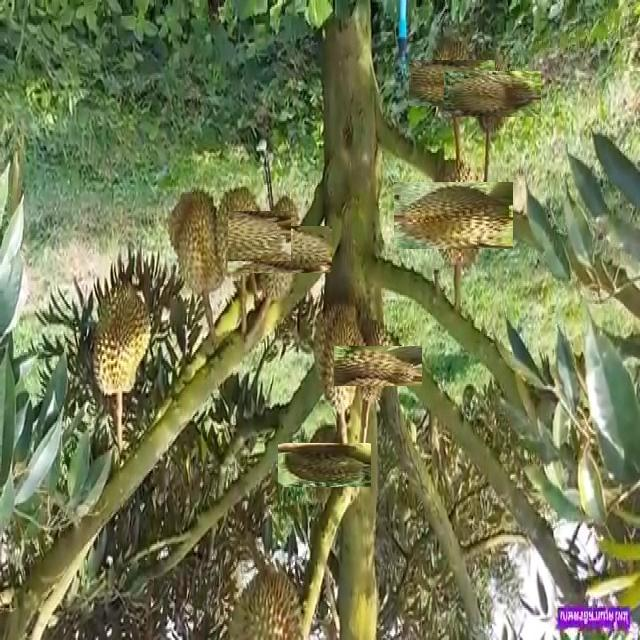durian: (407, 169, 501, 262), (90, 278, 154, 397), (165, 186, 228, 299), (222, 563, 307, 640), (312, 302, 366, 416), (240, 211, 317, 288), (202, 198, 278, 274), (456, 58, 528, 130), (290, 430, 359, 500), (419, 49, 485, 116), (346, 333, 410, 398)
